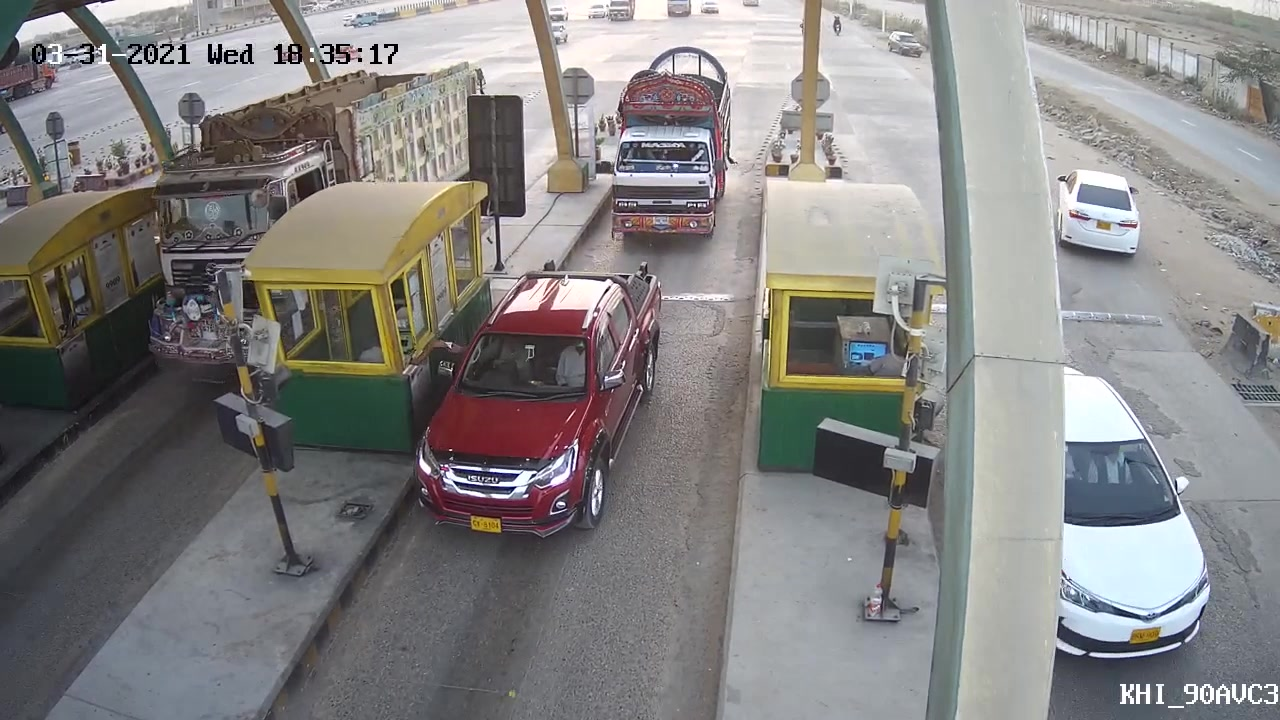F1: (400, 257, 668, 560)
F5: (590, 46, 744, 248)
